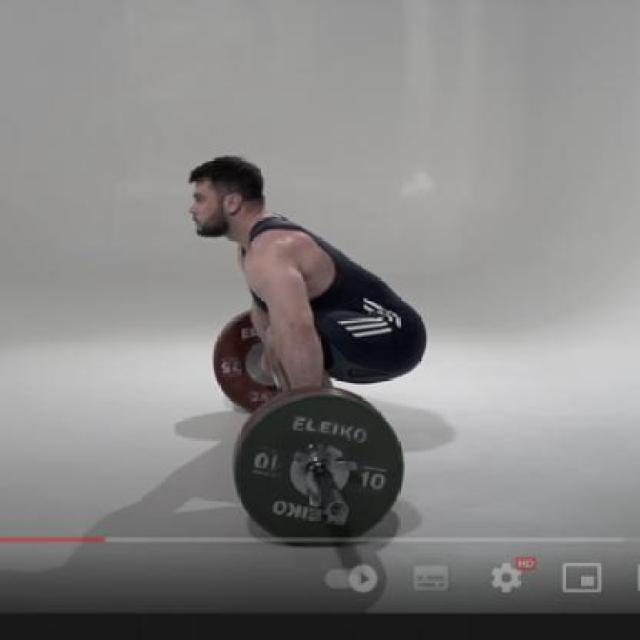barbell: (213, 377, 416, 554)
